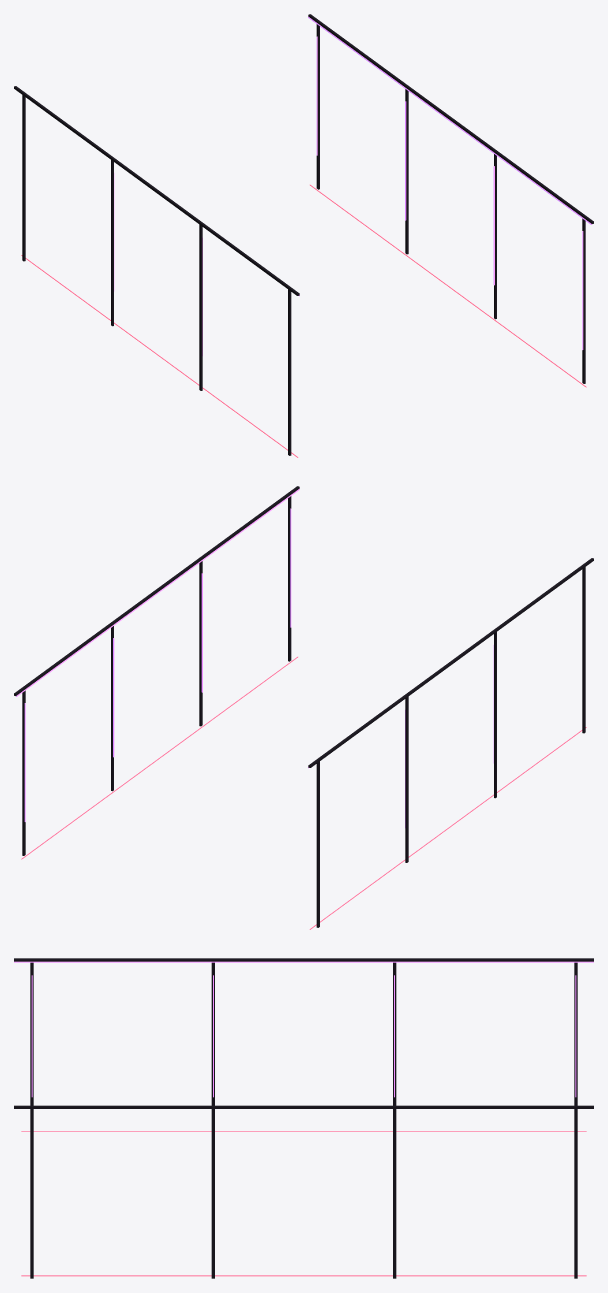
Rendered from lightfield.glb.
The picture shows the model from 3 angles, top to bottom: view 1: azimuth 30°, elevation 25°; view 2: azimuth 150°, elevation 25°; view 3: azimuth 270°, elevation 25°; orthographic projection. The views are drawn at different scales.
Visible parts, largest first — view 1: light_structure, violet_luminaires, red_floor_guides; view 2: light_structure, violet_luminaires, red_floor_guides; view 3: light_structure, violet_luminaires, red_floor_guides.
Boxes of the visible parts, x1,y1,x2,y2 form: light_structure: (14, 14, 593, 455); violet_luminaires: (114, 16, 591, 355); red_floor_guides: (21, 184, 586, 457); light_structure: (14, 486, 593, 927); violet_luminaires: (16, 488, 493, 827); red_floor_guides: (21, 656, 586, 929); light_structure: (14, 958, 593, 1278); violet_luminaires: (14, 961, 593, 1097); red_floor_guides: (21, 1131, 586, 1276).
Size of the model in its own units: 9.67 by 5.24 by 16.
